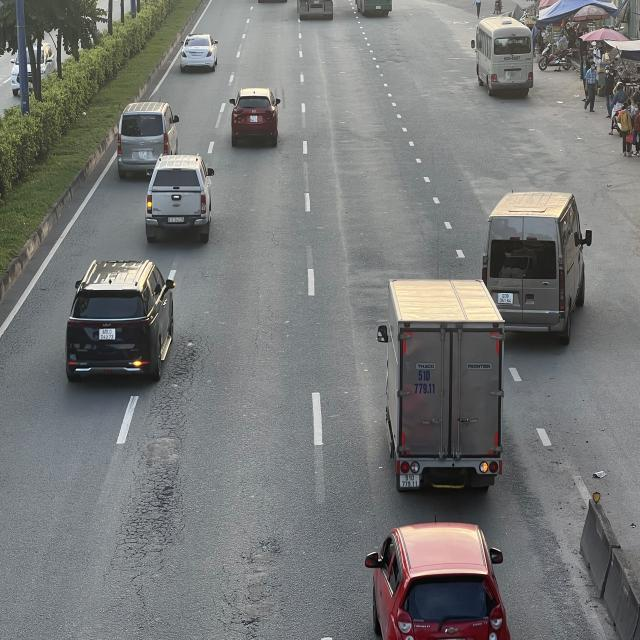car: (366, 520, 510, 637), (65, 258, 178, 380), (143, 156, 213, 245), (117, 103, 180, 180), (227, 86, 280, 146), (182, 36, 220, 74)
coach: (470, 17, 534, 98)
truck: (379, 277, 506, 492)
van: (484, 194, 594, 348)
